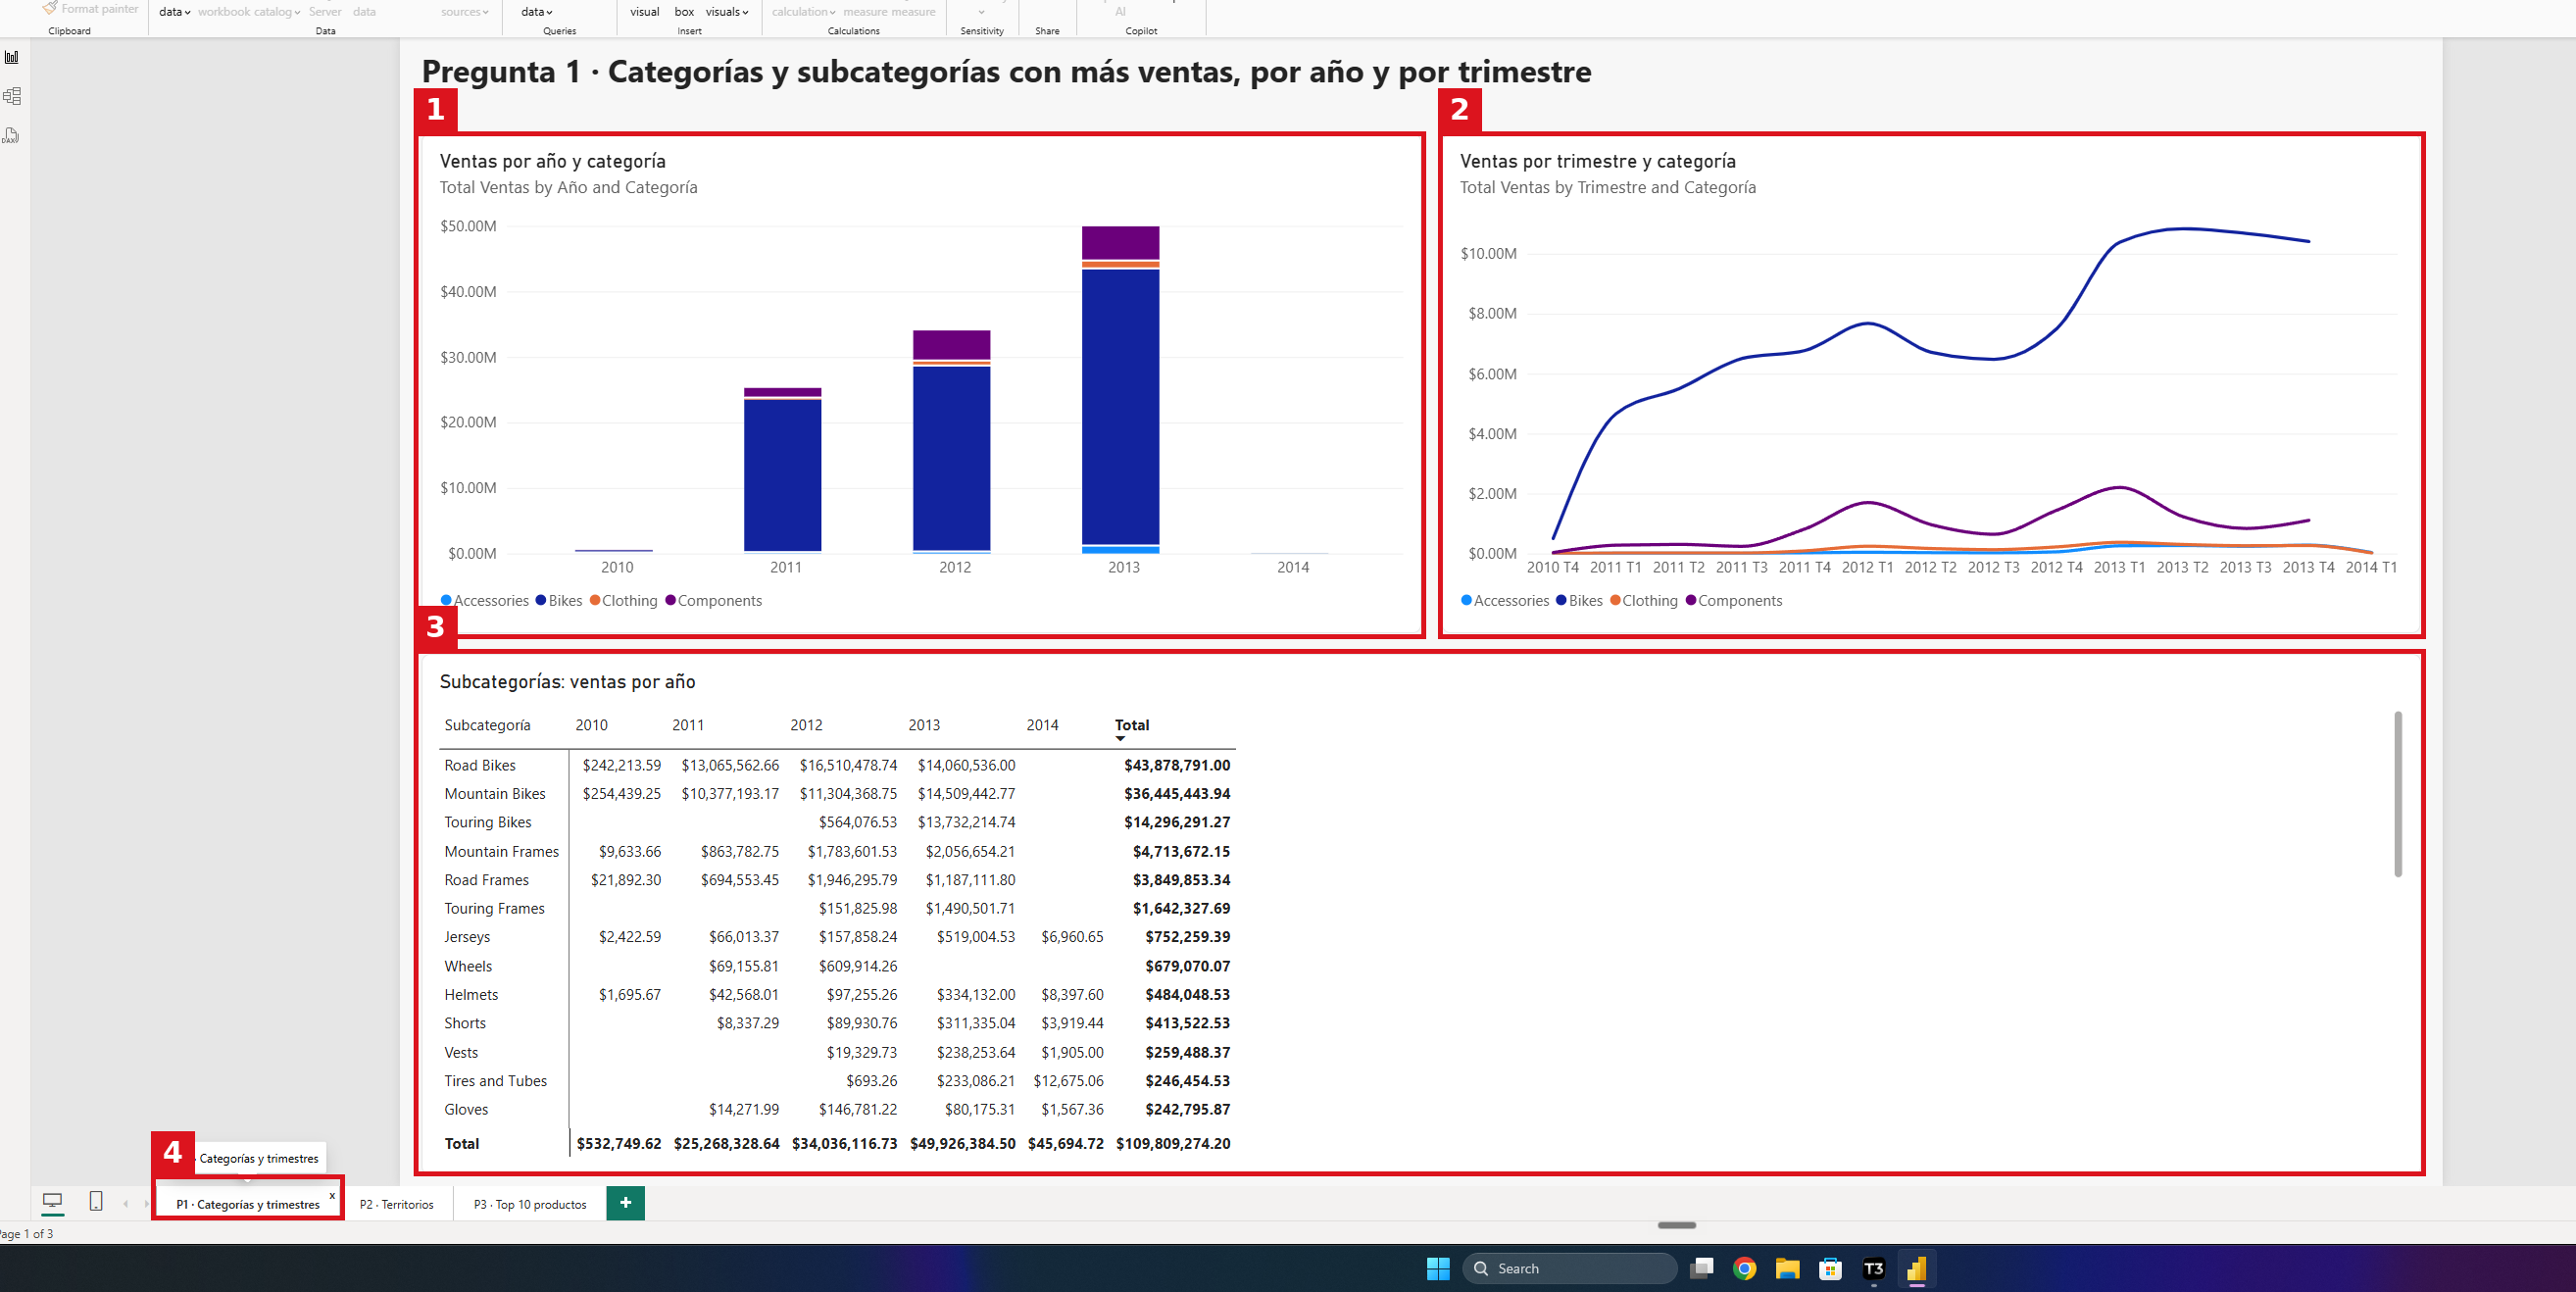

The page's visual inventory and layout, read from the dashboard file:
{"tool":"powerbi","page":{"name":"P1 · Categorías y trimestres","canvas":[1920,1080],"ordinal":0},"visuals":[{"type":"textbox","box":[20,10,1880,70],"z":0},{"type":"columnChart","title":"Ventas por año y categoría","fields":{"Category":["Fecha.Año"],"Series":["Producto.Categoría"],"Y":["Measures.Total Ventas"]},"box":[20,90,940,470],"z":1},{"type":"lineChart","title":"Ventas por trimestre y categoría","fields":{"Category":["Fecha.Trimestre"],"Series":["Producto.Categoría"],"Y":["Measures.Total Ventas"]},"box":[980,90,920,470],"z":2},{"type":"pivotTable","title":"Subcategorías: ventas por año","fields":{"Rows":["Producto.Subcategoría"],"Columns":["Fecha.Año"],"Values":["Measures.Total Ventas"]},"box":[20,580,1880,490],"z":3}]}

Visuals, with their boxes on the page's 1920x1080 design canvas (x1, y1, x2, y2). These are canvas units, not pixel positions in the 2576x1292 screenshot, which may show the page scaled, cropped or inside an application window:
textbox: 20, 10, 1900, 80
"Ventas por año y categoría" columnChart: 20, 90, 960, 560
"Ventas por trimestre y categoría" lineChart: 980, 90, 1900, 560
"Subcategorías: ventas por año" pivotTable: 20, 580, 1900, 1070
